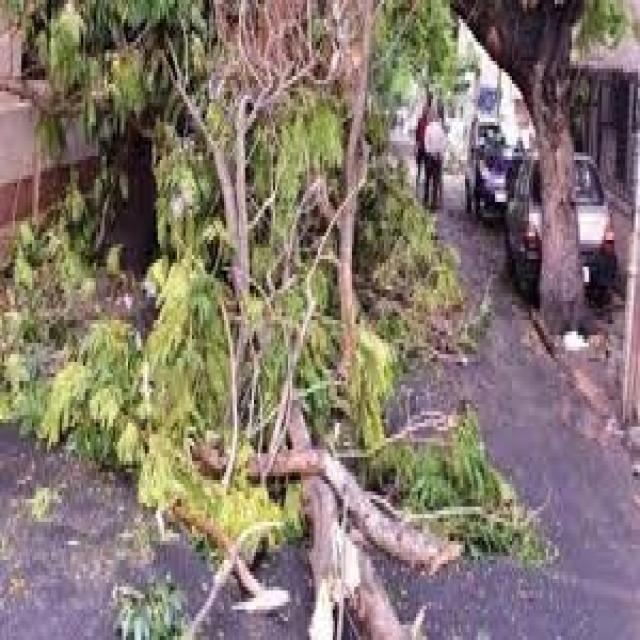fallen_object: (133, 88, 414, 638)
